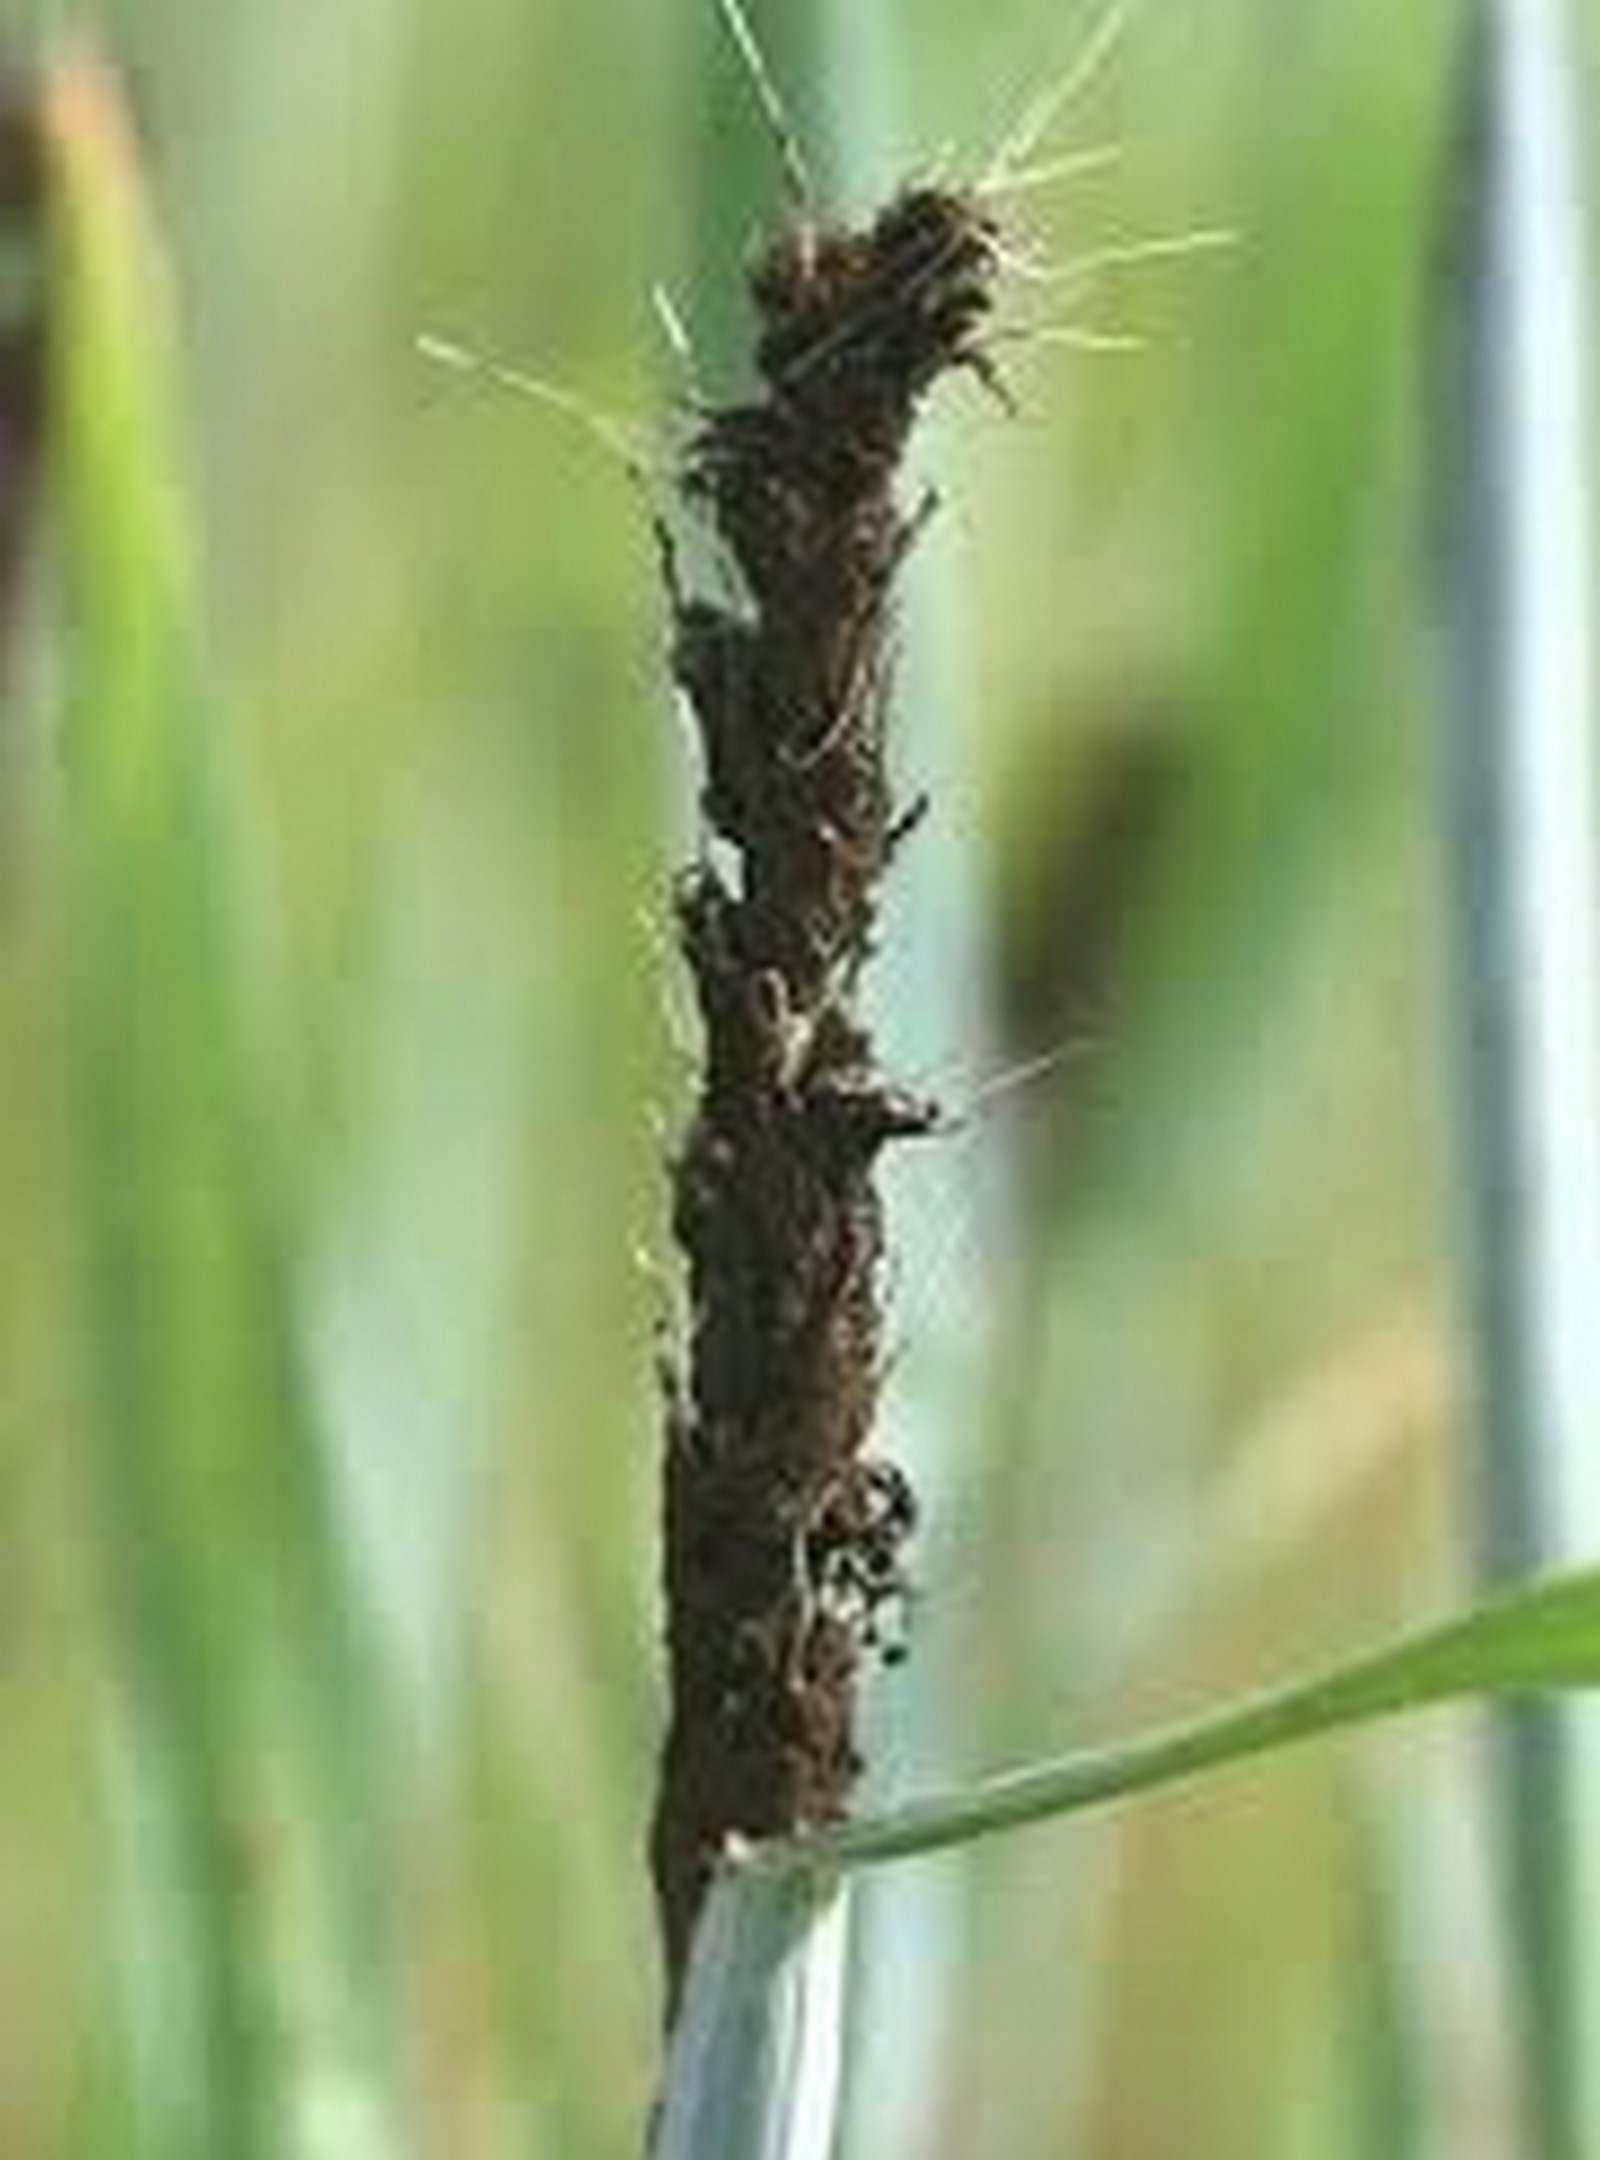Wheat Loose Smut: (560, 155, 1034, 1795)
